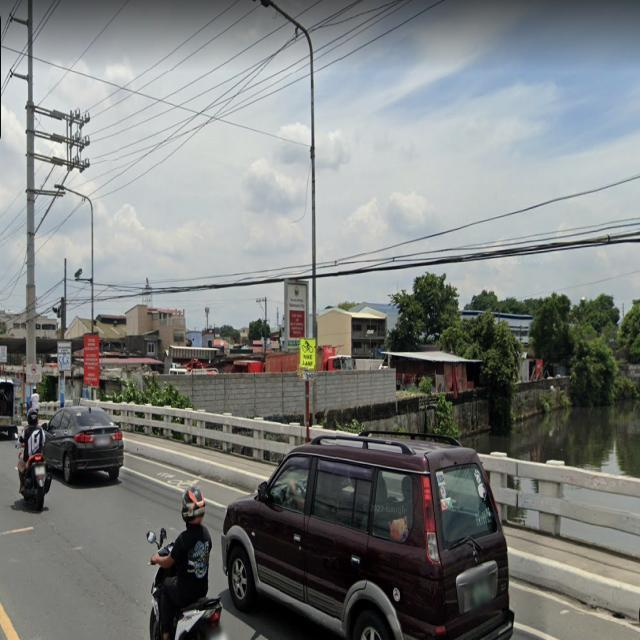bike lane: (297, 333, 318, 375)
